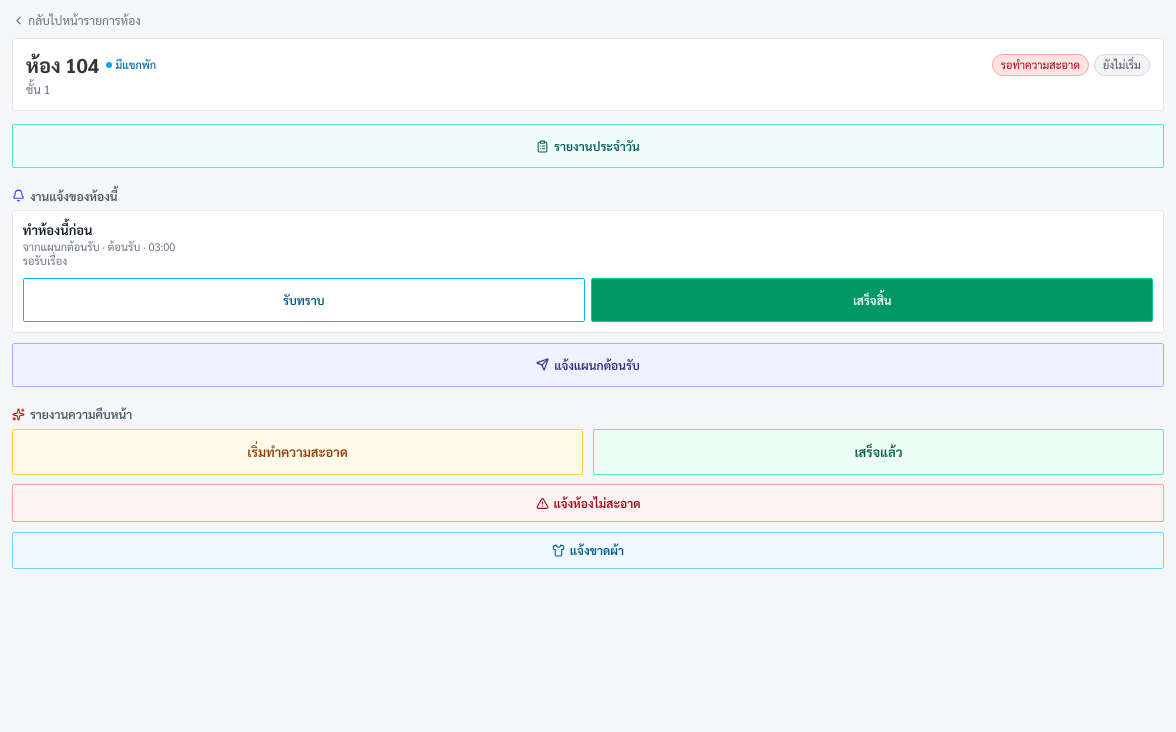
Test: maid — desk→maid signals › รับทราบ acks it and shows who has it
The image size is (1176, 732).
Expected: the heading "ห้อง 104" is shown, [26,52,99,78]
Step 1. Click the button "รับทราบ" → click(304, 300), box [23,278,585,322]
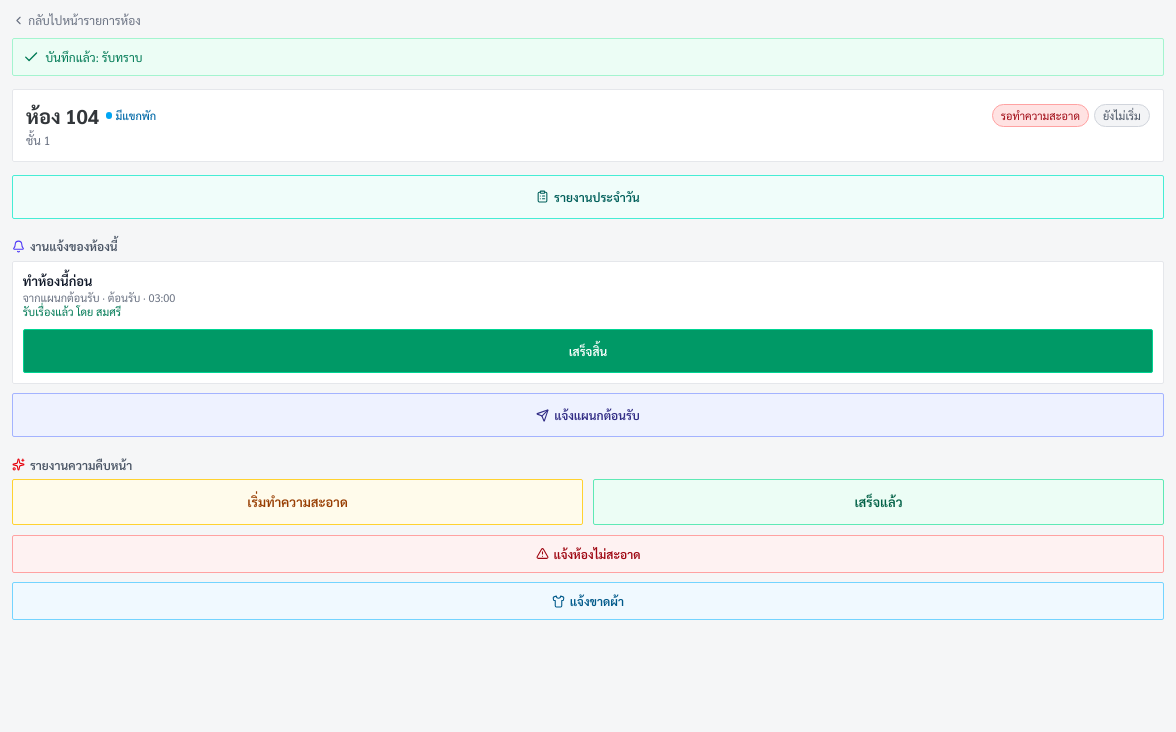
Now the text "รับเรื่องแล้ว โดย สมศรี" is shown, box [23,304,121,319]
